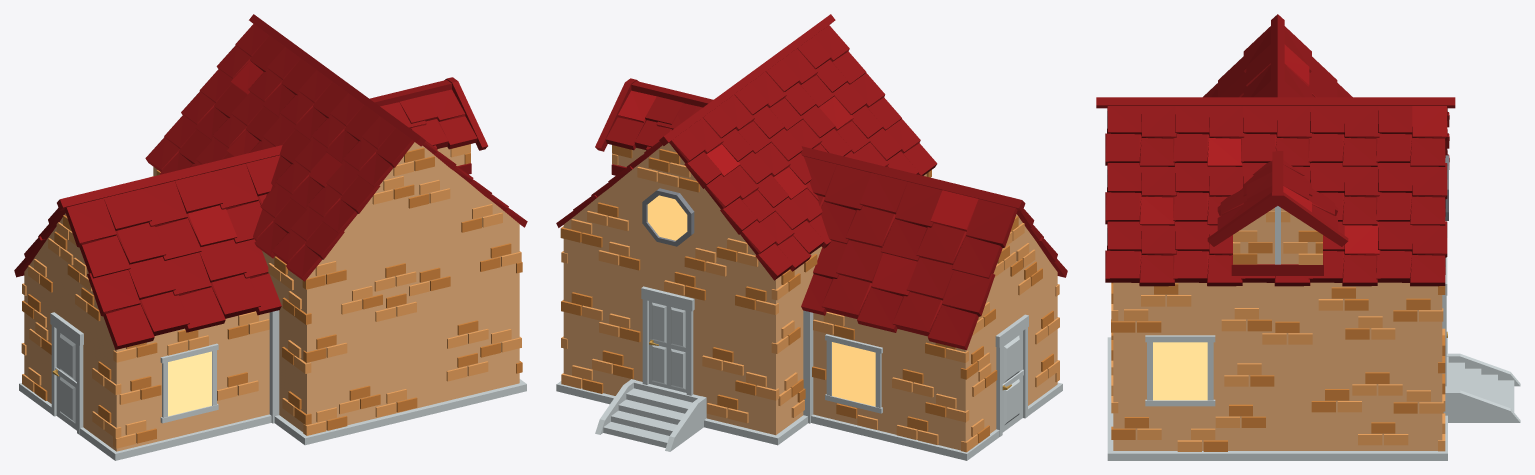
Rendered from SM_House_5.fbx.
The picture shows the model from 3 angles, left to right: view 1: azimuth 30°, elevation 25°; view 2: azimuth 150°, elevation 25°; view 3: azimuth 270°, elevation 25°; orthographic projection. The views are drawn at different scales.
Parts seen in each view (by area): view 1: SM_House_5_LOD0; view 2: SM_House_5_LOD0; view 3: SM_House_5_LOD0.
Boxes of the visible parts, left/top/right/bottom form: SM_House_5_LOD0: left=14, top=14, right=527, bottom=460; SM_House_5_LOD0: left=556, top=14, right=1067, bottom=460; SM_House_5_LOD0: left=1096, top=14, right=1520, bottom=460.
Bounding box in the file's own units: 1041 × 903 × 718.
Materials: 1 (1 with a texture image).
